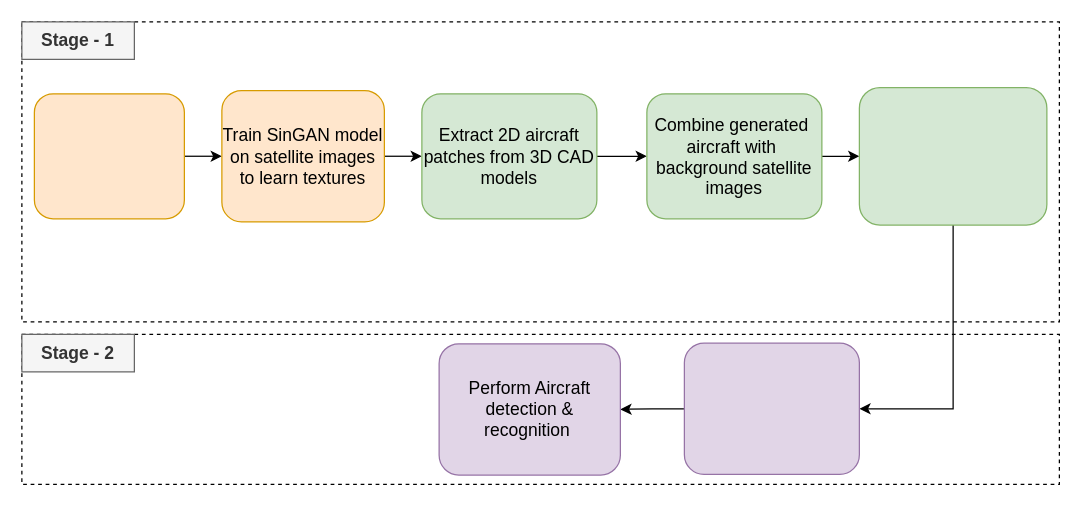
The diagram is 1081 pixels wide and 506 high, and some of its shapes have lost their labels. The shapes that lost their labels are listed below. From the top down, each one's centre as x and y in pixels, then its label:
the point at 108,155: Download satellite images
the point at 952,155: Harmonize pasted aircraft with background images to generate " SyntAR " imagery
the point at 771,408: Train DL model on satellite images with Real aircraft & " SyntAR " imagery
